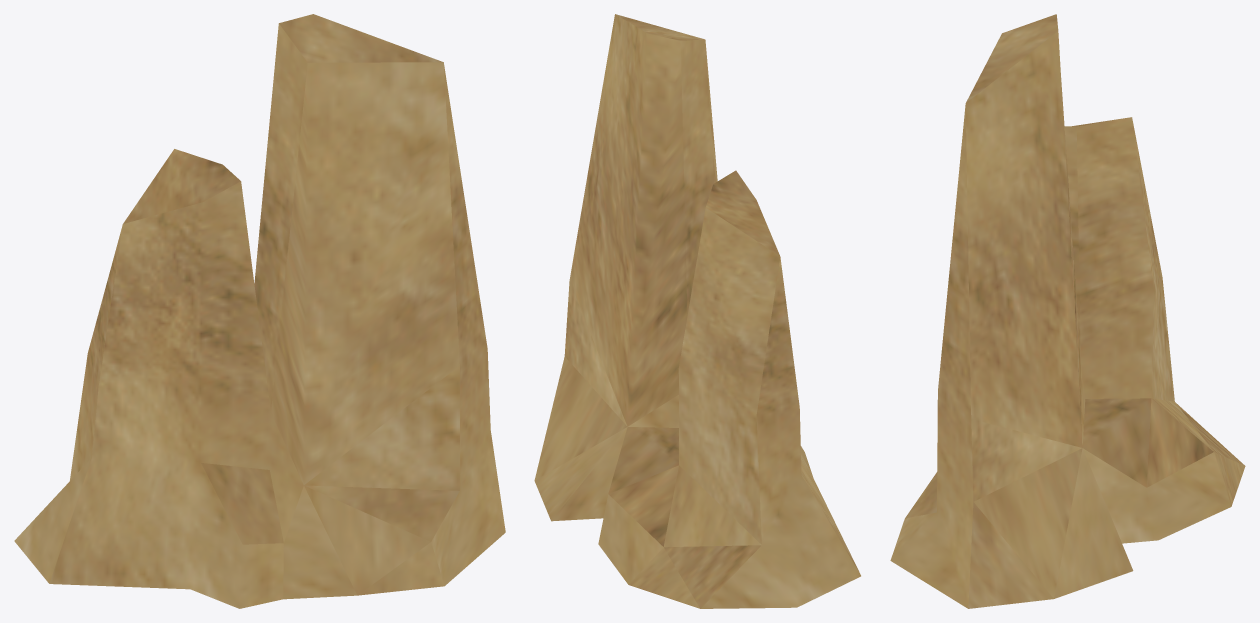
File: rock_spire02.glb
3 views of the same model, side by side, from view 1: azimuth 30°, elevation 25°; view 2: azimuth 150°, elevation 25°; view 3: azimuth 270°, elevation 25° (orthographic). The views are drawn at different scales.
Visible parts, largest first — view 1: Outcropping2; view 2: Outcropping2; view 3: Outcropping2.
Part boxes in pixels (left/top/right/bottom): Outcropping2: left=14, top=14, right=505, bottom=608; Outcropping2: left=534, top=14, right=860, bottom=608; Outcropping2: left=890, top=14, right=1245, bottom=608.
Size of the model in its own units: 17.16 by 21.6 by 13.67.
Materials: 1 (1 with a texture image).
